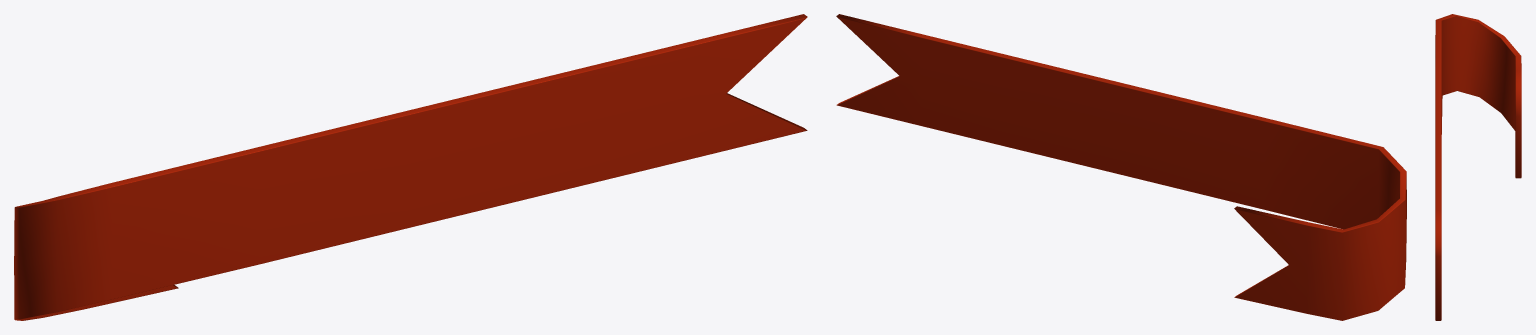
File: PlacementBackdropRibbonAlt1.fbx
The picture shows the model from 3 angles, left to right: view 1: azimuth 30°, elevation 25°; view 2: azimuth 150°, elevation 25°; view 3: azimuth 270°, elevation 25°; orthographic projection. The views are drawn at different scales.
Parts seen in each view (by area): view 1: Ribbon2; view 2: Ribbon2; view 3: Ribbon2.
Boxes of the visible parts, x1,y1,x2,y2 form: Ribbon2: (14,14,807,320); Ribbon2: (836,14,1406,320); Ribbon2: (1435,14,1521,320).
Size of the model in its own units: 170 by 37.89 by 25.29.
